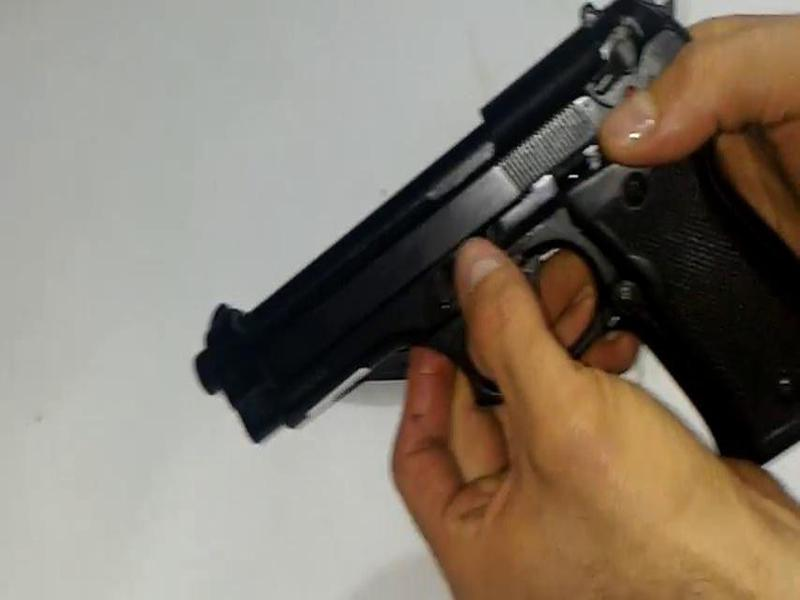Pistola: (157, 1, 795, 494)
